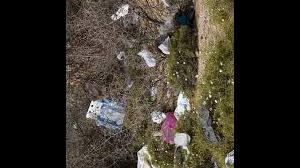Plastic: (87, 92, 132, 133)
